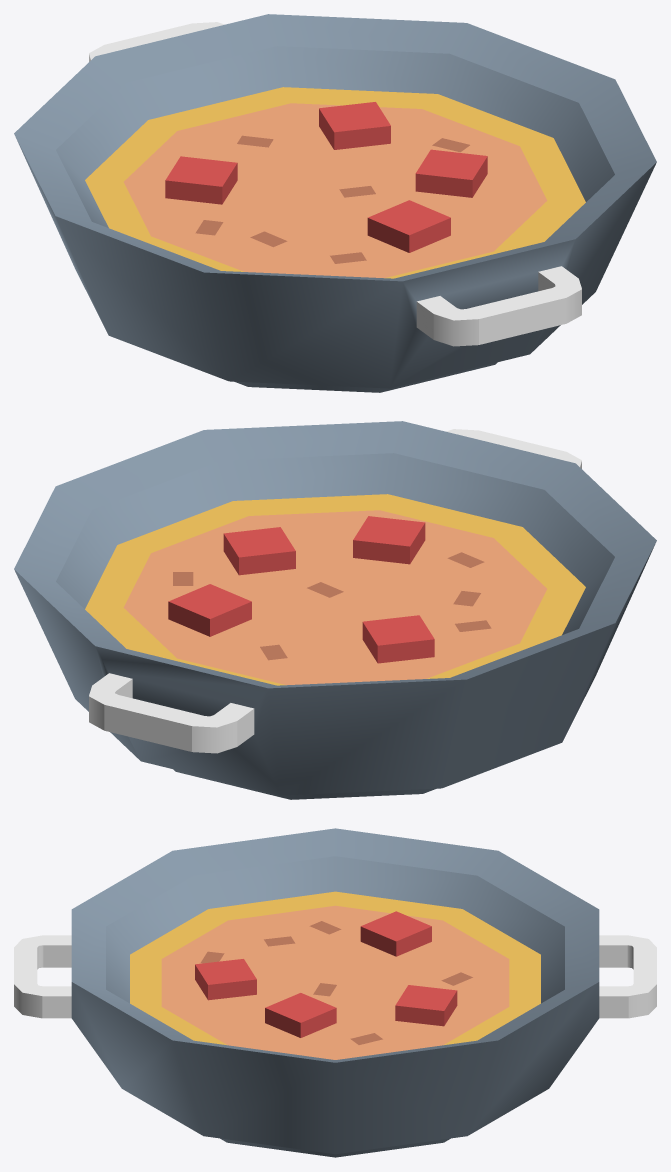
The model's file is panStew.GLB.
3 views of the same model, one above another, from view 1: azimuth 30°, elevation 25°; view 2: azimuth 150°, elevation 25°; view 3: azimuth 270°, elevation 25° (orthographic). The views are drawn at different scales.
Parts seen in each view (by area): view 1: panStew; view 2: panStew; view 3: panStew.
Boxes of the visible parts, bbox=[...] form: panStew: bbox=[14, 14, 656, 392]; panStew: bbox=[14, 421, 656, 799]; panStew: bbox=[14, 828, 656, 1157].
Size of the model in its own units: 0.6574 by 0.1753 by 0.7621.
